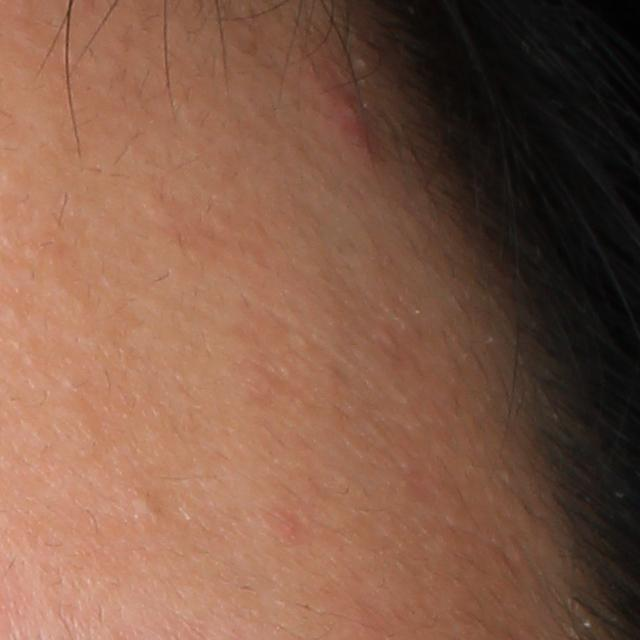comedo: (129, 490, 158, 519)
